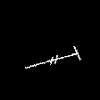treble_crochet: (25, 47, 80, 67)
